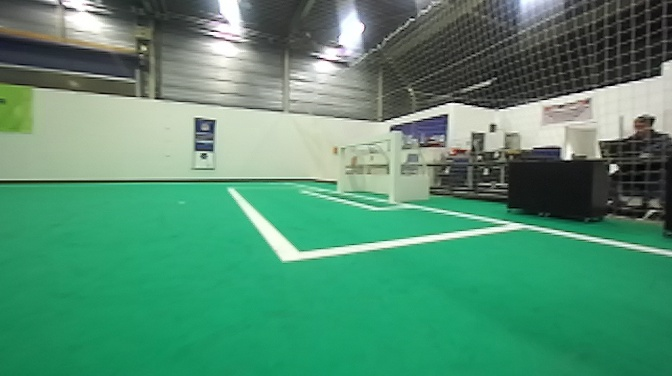goalpost: (384, 129, 406, 212), (331, 142, 351, 204)
